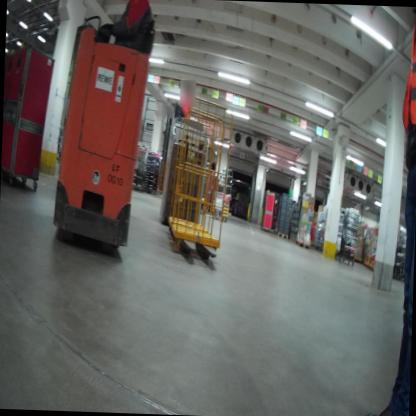pallet: (274, 228, 289, 241), (294, 239, 312, 249)
pallet_truck: (43, 4, 159, 263), (154, 111, 226, 263)
